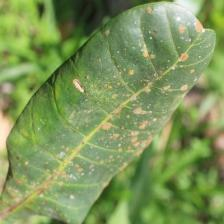red rust: (2, 3, 216, 223)
